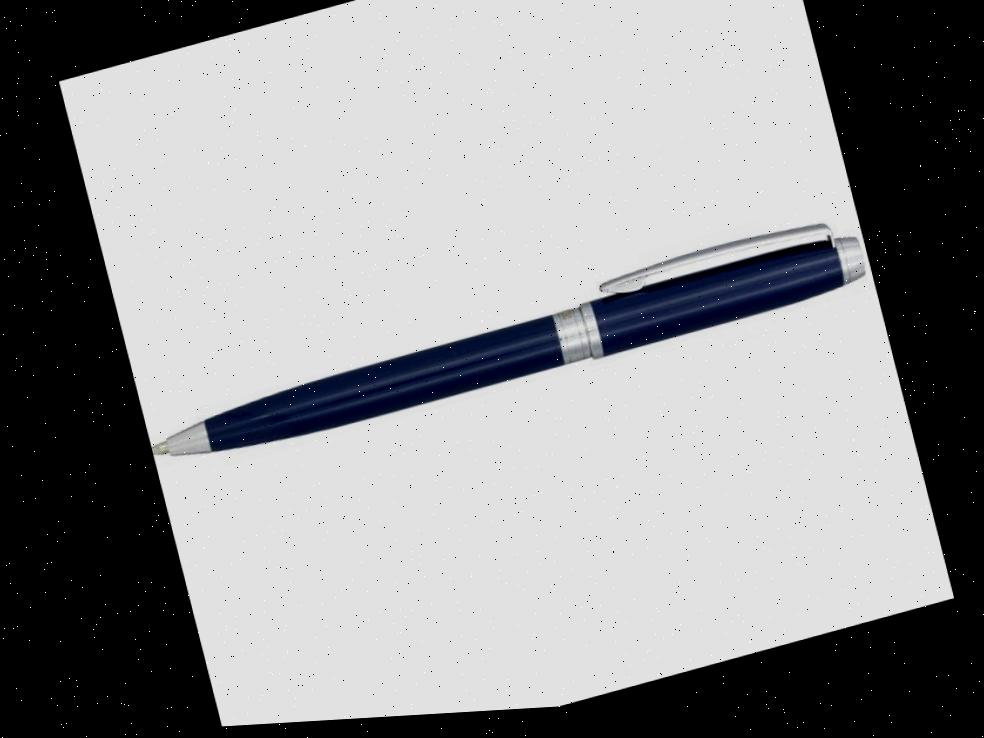pen-pencil: (151, 235, 863, 454)
